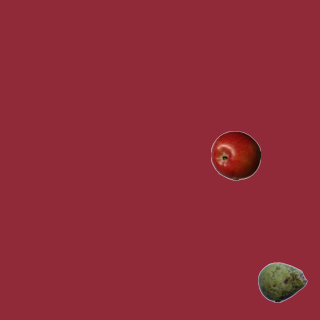Apple Braeburn: (210, 130, 260, 180)
Pear Stone: (257, 257, 307, 307)
